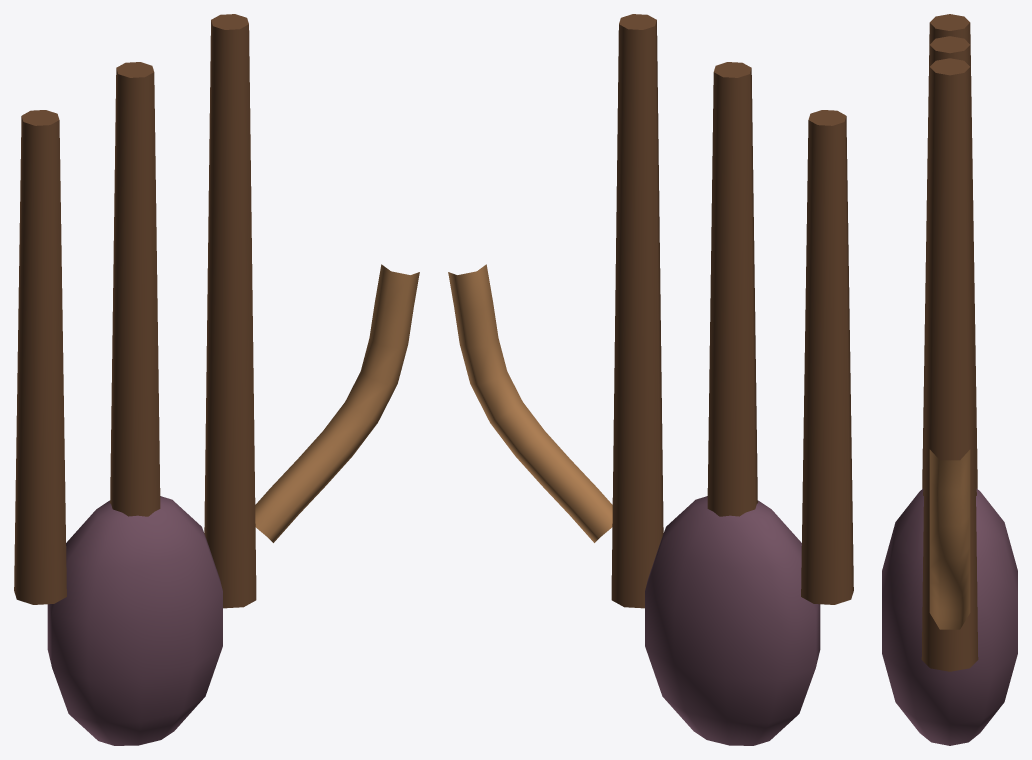
The model's file is bagpipes.glb.
3 renders of one model, left to right at view 1: azimuth 30°, elevation 25°; view 2: azimuth 150°, elevation 25°; view 3: azimuth 270°, elevation 25°, orthographic. The views are drawn at different scales.
Visible parts, largest first — view 1: bagpipes-bag, bagpipes-drone-3, bagpipes-drone-1, bagpipes-drone-2, bagpipes-blowpipe; view 2: bagpipes-bag, bagpipes-drone-3, bagpipes-drone-1, bagpipes-drone-2, bagpipes-blowpipe; view 3: bagpipes-drone-3, bagpipes-bag, bagpipes-blowpipe, bagpipes-drone-1, bagpipes-drone-2.
Boxes of the visible parts, x1,y1,x2,y2 form: bagpipes-bag: (47,496,222,745); bagpipes-drone-3: (204,14,256,608); bagpipes-drone-1: (14,110,66,604); bagpipes-drone-2: (110,62,160,516); bagpipes-blowpipe: (255,264,419,542); bagpipes-bag: (645,496,820,745); bagpipes-drone-3: (611,14,663,608); bagpipes-drone-1: (801,110,853,604); bagpipes-drone-2: (707,62,757,516); bagpipes-blowpipe: (448,264,612,542); bagpipes-drone-3: (921,58,978,671); bagpipes-bag: (882,489,1017,745); bagpipes-blowpipe: (929,449,970,629); bagpipes-drone-1: (922,14,977,488); bagpipes-drone-2: (923,36,976,495).
Size of the model in its own units: 0.4201 by 0.705 by 0.1205.
